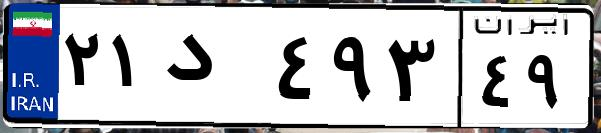1: (110, 28, 158, 98)
2: (57, 26, 110, 100)
3: (385, 28, 445, 110)
4: (270, 28, 330, 110), (475, 38, 525, 113)
9: (330, 28, 385, 110), (525, 38, 570, 115)
د: (158, 20, 270, 120)
